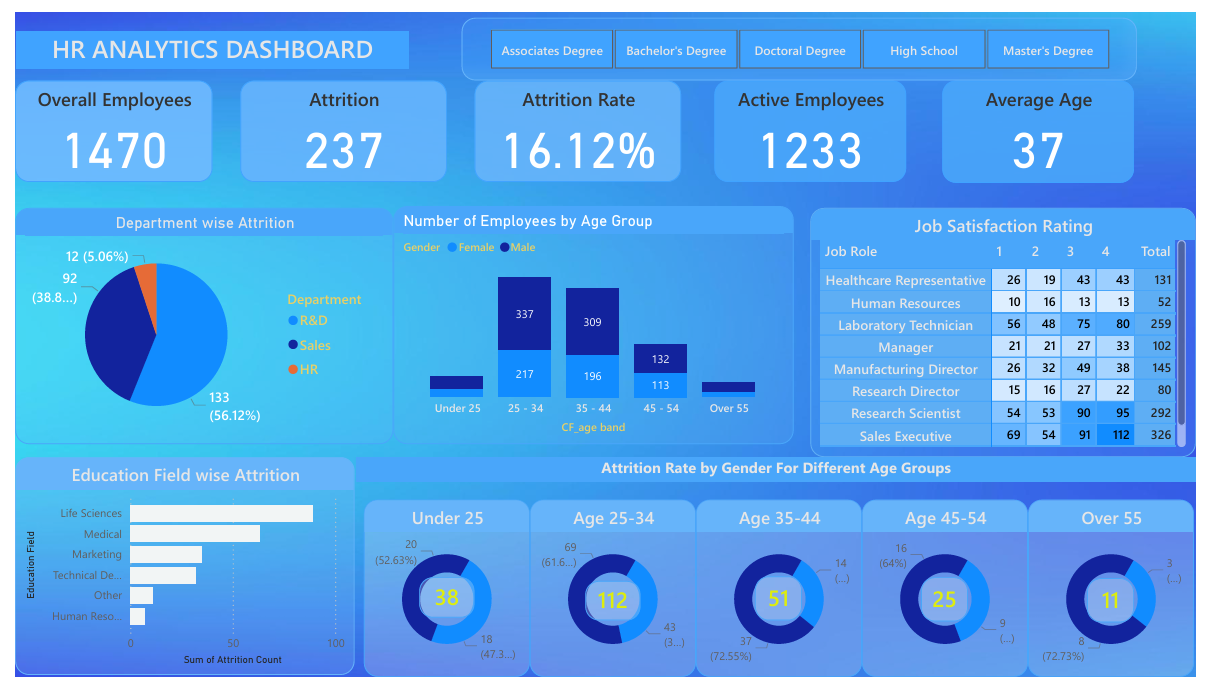

The page's visual inventory and layout, read from the dashboard file:
{"tool":"powerbi","page":{"name":"HR ANALYTICS DASHBOARD","canvas":[1280,720],"ordinal":0},"visuals":[{"type":"card","title":"Overall Employees","fields":{"Values":["Sum(HR data.Employee Count)"]},"box":[0,74,214,110],"z":0},{"type":"card","title":"Attrition","fields":{"Values":["Sum(HR data.Attrition Count)"]},"box":[244,74,224,110],"z":1000},{"type":"card","title":"Attrition Rate","fields":{"Values":["HR data.Attrition Rate"]},"box":[498,74,224,110],"z":2000},{"type":"card","title":"Active Employees","fields":{"Values":["HR data.Attrition Employee"]},"box":[758,74,208,110],"z":3000},{"type":"card","title":"Average Age","fields":{"Values":["Avg(HR data.Age)"]},"box":[1004.6,74.4,208.8,110.7],"z":4000},{"type":"pieChart","title":"Department wise Attrition","fields":{"Category":["HR data.Department"],"Y":["Sum(HR data.Attrition Count)"]},"box":[0,212,410,256],"z":5000},{"type":"columnChart","title":"Number of Employees by Age Group","fields":{"Category":["HR data.CF_age band"],"Series":["HR data.Gender"],"Y":["Sum(HR data.Employee Count)"]},"box":[410,210,434,258],"z":6000},{"type":"pivotTable","title":"Job Satisfaction Rating","fields":{"Rows":["HR data.Job Role"],"Columns":["HR data.Job Satisfaction"],"Values":["Sum(HR data.Employee Count)"]},"box":[862,212,418,270],"z":7000},{"type":"barChart","title":"Education Field wise Attrition","fields":{"Category":["HR data.Education Field"],"Y":["Sum(HR data.Attrition Count)"]},"box":[0,482,368,236],"z":8000},{"type":"textbox","title":"Attrition Rate by Gender For Different Age Groups","box":[370,482,910,26],"z":9000},{"type":"donutChart","title":"Age 25-34","fields":{"Category":["HR data.Gender"],"Y":["Sum(HR data.Attrition Count)"],"Series":["HR data.CF_age band"]},"box":[557.8,527.8,180,192.2],"z":10000},{"type":"donutChart","title":"Age 35-44","fields":{"Category":["HR data.Gender"],"Y":["Sum(HR data.Attrition Count)"],"Series":["HR data.CF_age band"]},"box":[737.5,527.5,180,192.5],"z":11000},{"type":"donutChart","title":"Age 45-54","fields":{"Category":["HR data.Gender"],"Y":["Sum(HR data.Attrition Count)"],"Series":["HR data.CF_age band"]},"box":[917.5,527.5,180,192.5],"z":12000},{"type":"donutChart","title":"Over 55","fields":{"Category":["HR data.Gender"],"Y":["Sum(HR data.Attrition Count)"],"Series":["HR data.CF_age band"]},"box":[1097.5,527.5,180,192.5],"z":13000},{"type":"textbox","title":"HR ANALYTICS DASHBOARD","box":[1.1,21.1,425.6,40],"z":14000},{"type":"card","title":"Under 25","fields":{"Values":["Sum(HR data.Attrition Count)"]},"box":[617.8,615.6,60,43.3],"z":15000},{"type":"donutChart","title":"Under 25","fields":{"Category":["HR data.Gender"],"Y":["Sum(HR data.Attrition Count)"],"Series":["HR data.CF_age band"]},"box":[377.8,527.8,180,192.2],"z":16000},{"type":"card","title":"Under 25","fields":{"Values":["Sum(HR data.Attrition Count)"]},"box":[1162.2,613.3,51.1,47.8],"z":17000},{"type":"card","title":"Under 25","fields":{"Values":["Sum(HR data.Attrition Count)"]},"box":[982.2,612.2,51.1,47.8],"z":18000},{"type":"card","title":"Under 25","fields":{"Values":["Sum(HR data.Attrition Count)"]},"box":[802.2,611.1,51.1,47.8],"z":19000},{"type":"card","title":"Under 25","fields":{"Values":["Sum(HR data.Attrition Count)"]},"box":[437.8,612.2,60,43.3],"z":20000},{"type":"slicer","fields":{"Values":["HR data.Education"]},"box":[484,6,732,68],"z":21000}]}

Visuals, with their boxes in screenshot pixels (x1, y1, x2, y2), scaled from the page's 1280x720 canvas onto the 1212x688 screenshot:
"Overall Employees" card: 0,71,203,176
"Attrition" card: 231,71,443,176
"Attrition Rate" card: 472,71,684,176
"Active Employees" card: 718,71,915,176
"Average Age" card: 951,71,1149,177
"Department wise Attrition" pieChart: 0,203,388,447
"Number of Employees by Age Group" columnChart: 388,201,799,447
"Job Satisfaction Rating" pivotTable: 816,203,1211,461
"Education Field wise Attrition" barChart: 0,461,348,686
"Attrition Rate by Gender For Different Age Groups" textbox: 350,461,1211,485
"Age 25-34" donutChart: 528,504,699,687
"Age 35-44" donutChart: 698,504,869,687
"Age 45-54" donutChart: 869,504,1039,687
"Over 55" donutChart: 1039,504,1210,687
"HR ANALYTICS DASHBOARD" textbox: 1,20,404,58
"Under 25" card: 585,588,642,630
"Under 25" donutChart: 358,504,528,687
"Under 25" card: 1100,586,1149,632
"Under 25" card: 930,585,978,631
"Under 25" card: 760,584,808,630
"Under 25" card: 415,585,471,626
slicer - HR data.Education: 458,6,1151,71
